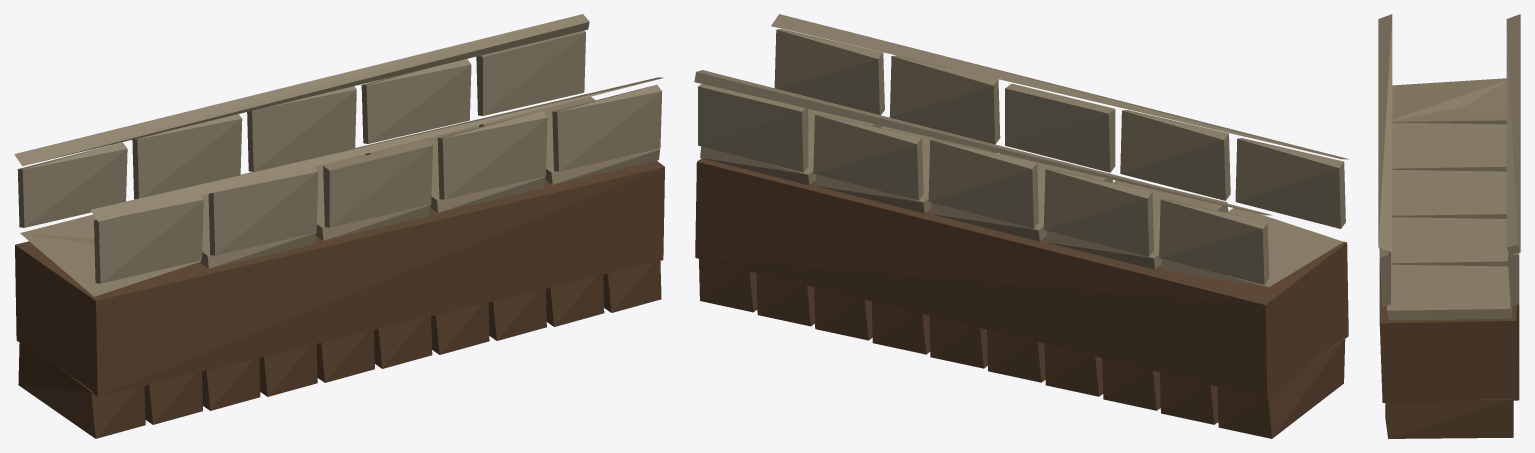
File: bridge-deck-stone-lod1.glb
3 renders of one model, left to right at view 1: azimuth 30°, elevation 25°; view 2: azimuth 150°, elevation 25°; view 3: azimuth 270°, elevation 25°, orthographic. The views are drawn at different scales.
Size of the model in its own units: 3.98 by 1.53 by 1.02.
